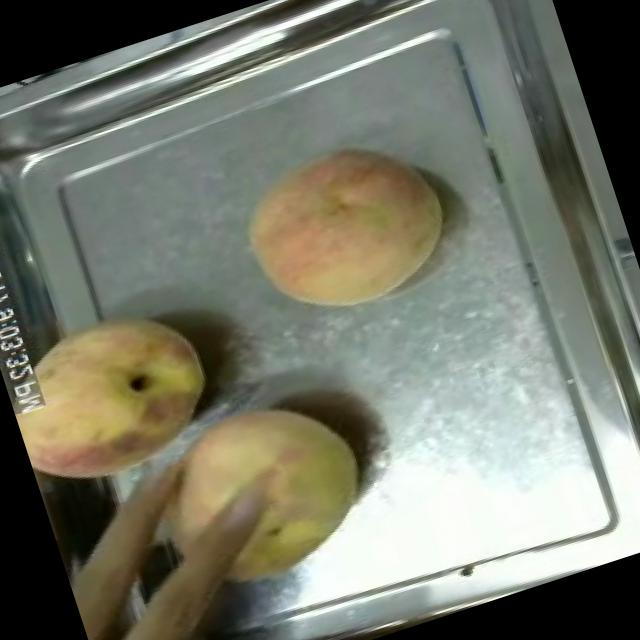Fruit: (104, 357, 402, 638), (0, 281, 243, 518), (219, 117, 466, 344)
